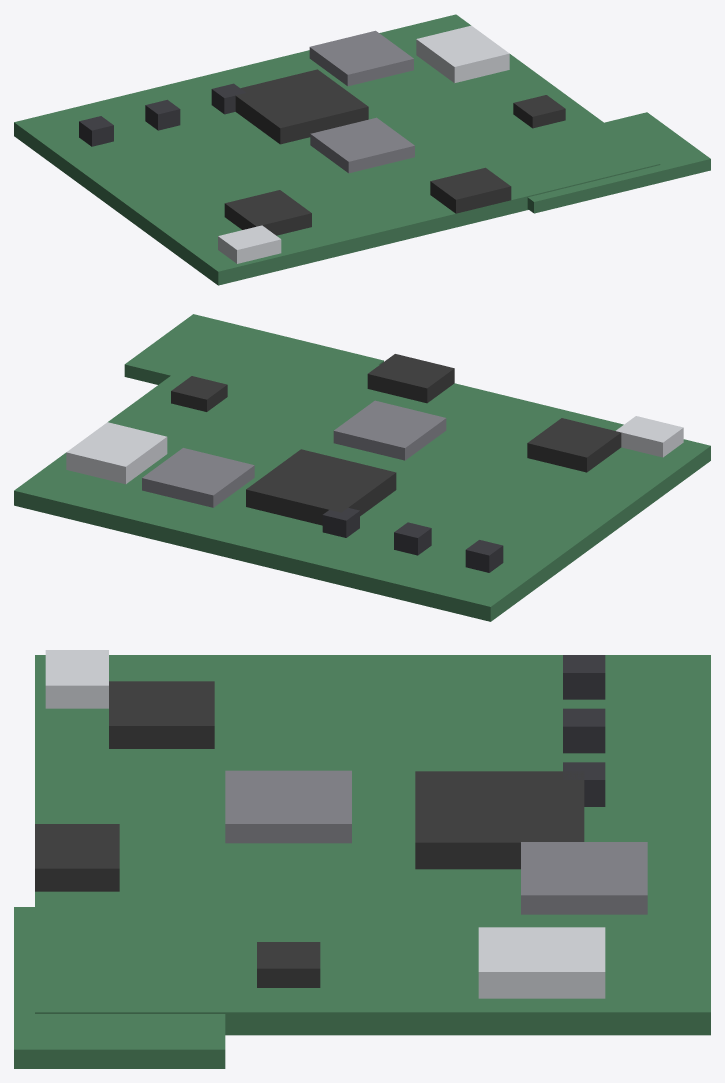
Rendered from mainboard.gltf.
3 renders of one model, top to bottom at view 1: azimuth 30°, elevation 25°; view 2: azimuth 150°, elevation 25°; view 3: azimuth 270°, elevation 25°, orthographic. The views are drawn at different scales.
Visible parts, largest first — view 1: mainboard; view 2: mainboard; view 3: mainboard.
Part boxes in pixels (box(x1,y1,x2,y2)): mainboard: box(14, 14, 710, 285); mainboard: box(14, 314, 710, 621); mainboard: box(14, 650, 710, 1068).
Bounding box in the file's own units: 0.22 × 0.0155 × 0.165.
